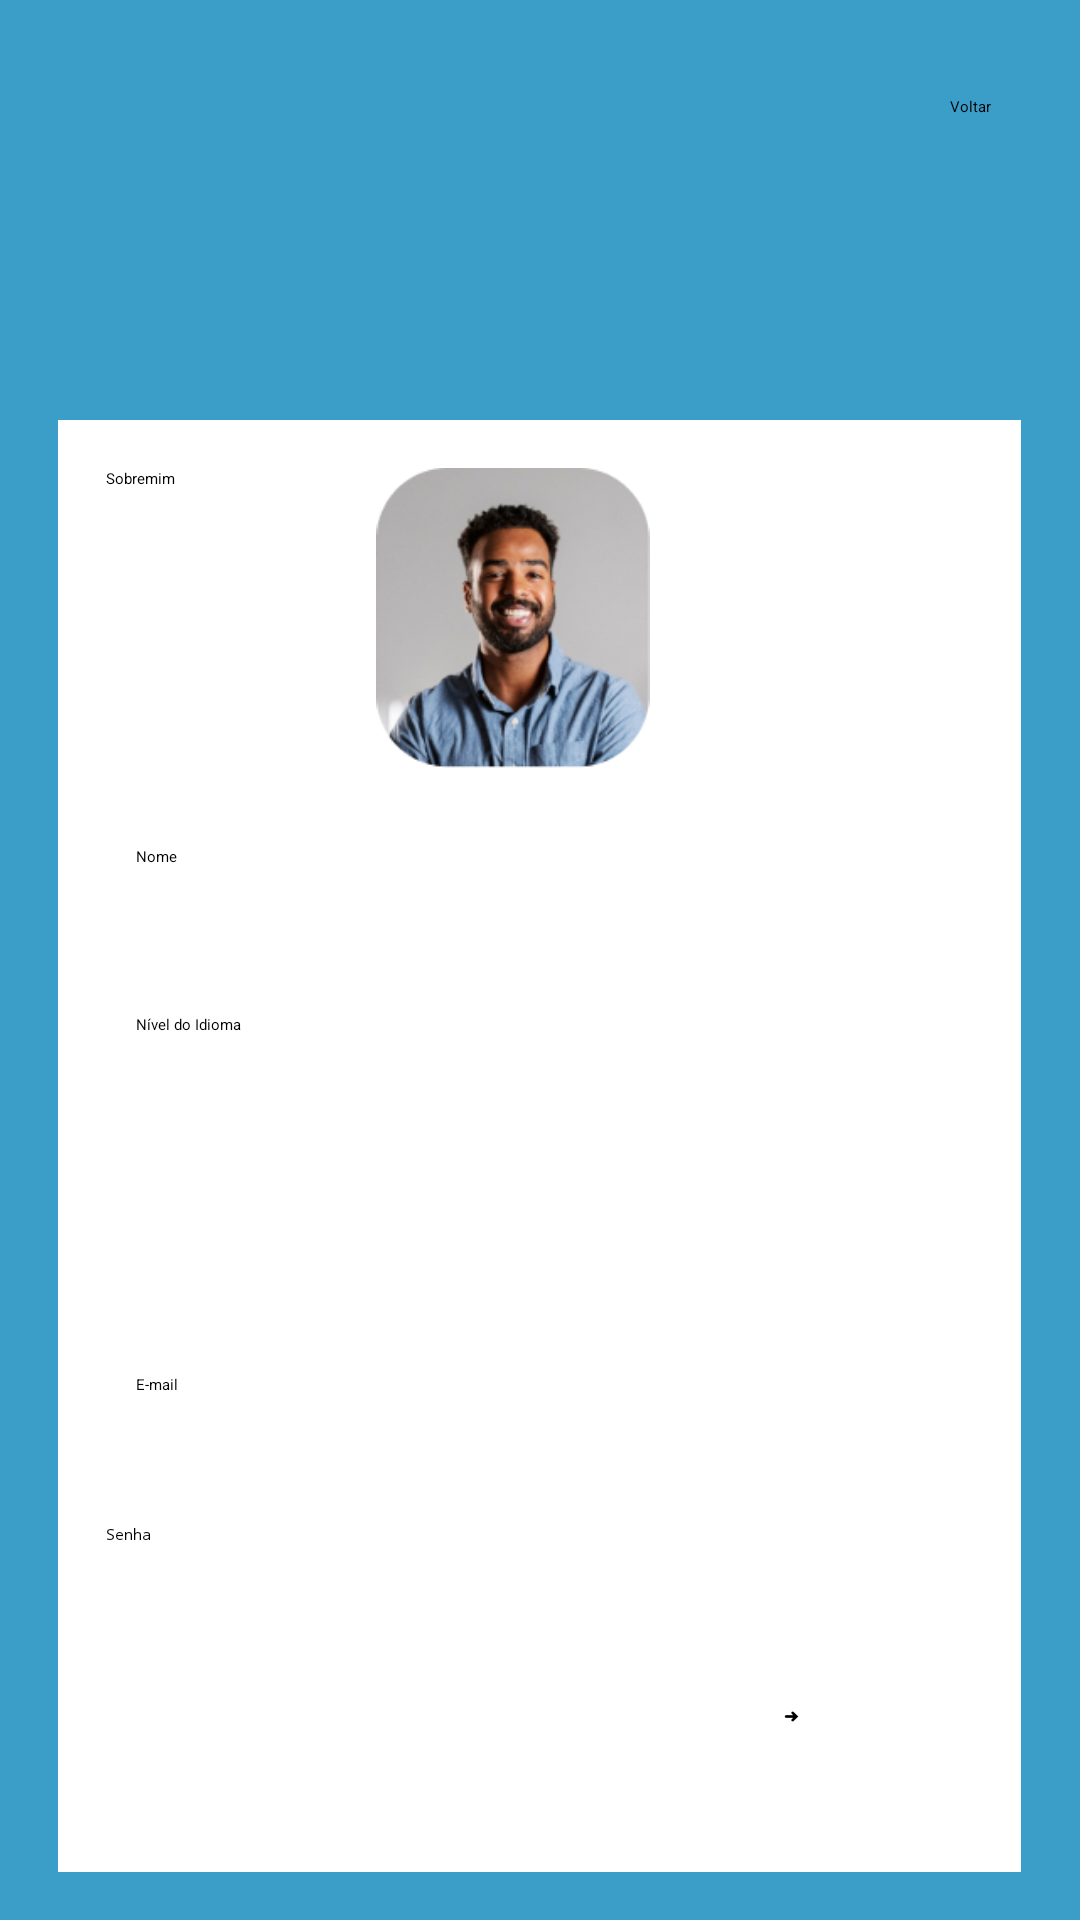

Locate icon controls on the screen. Image size 1080w x 1920h, boxes as (x1, y1, x2, y2).
Selecione uma Foto: (376, 468, 650, 768)
